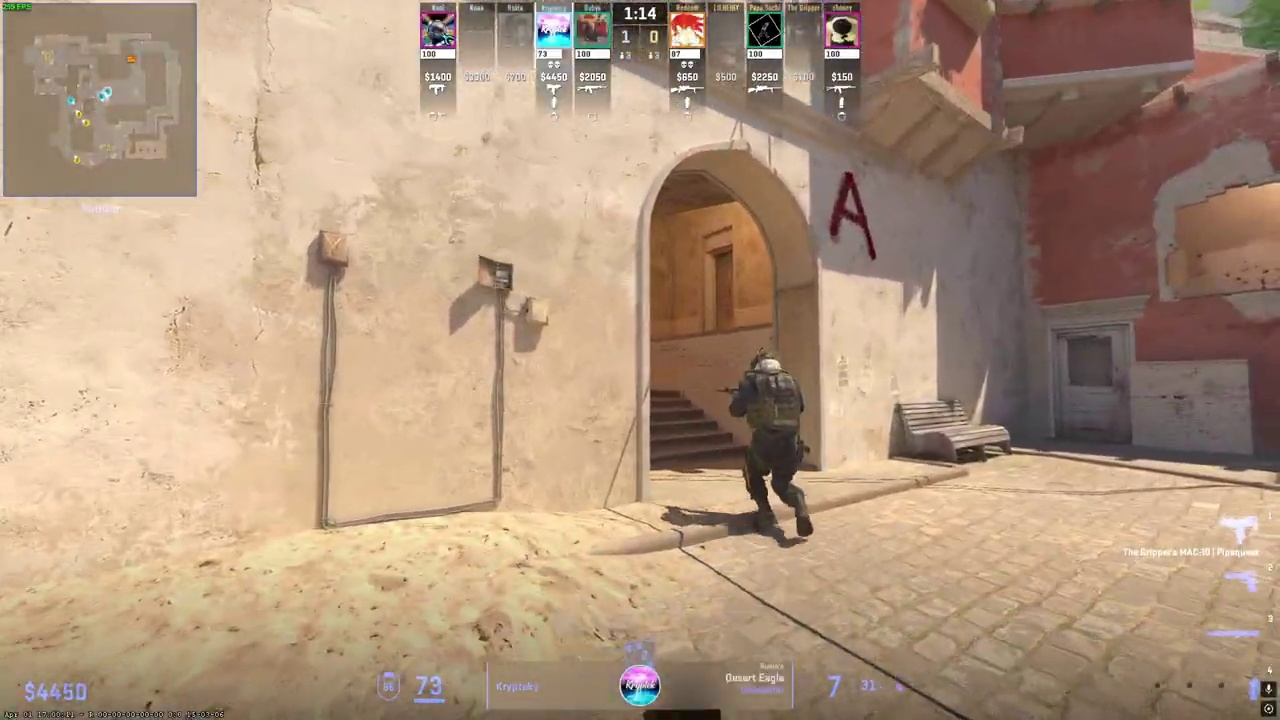CT: (734, 349, 812, 537)
